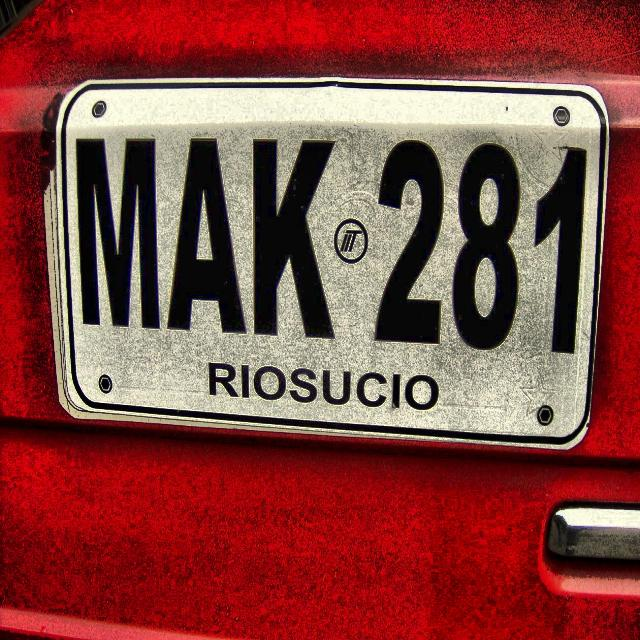plate: (59, 83, 606, 440)
